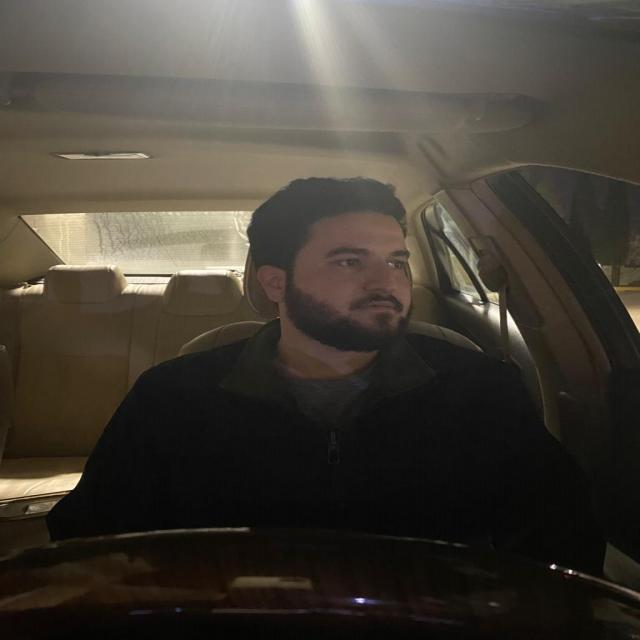person: (245, 175, 441, 354)
